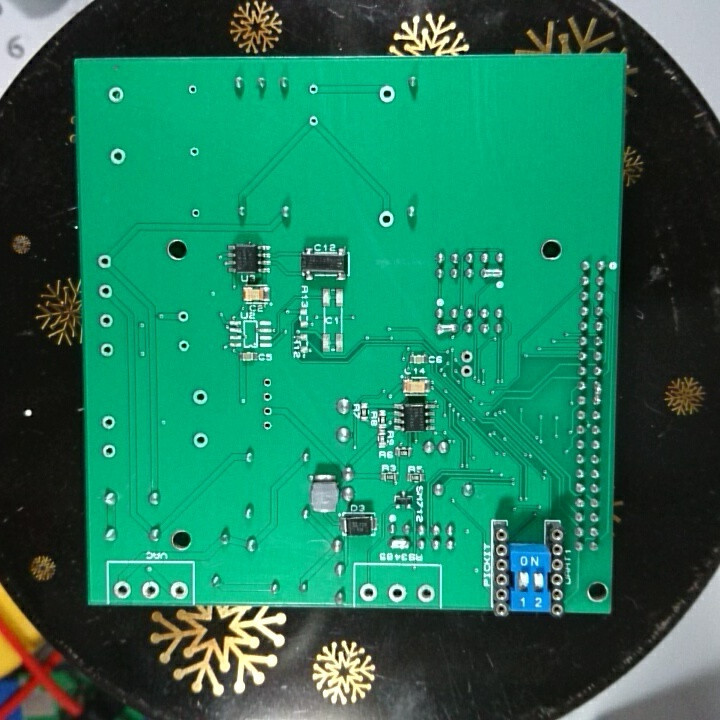F: (168, 577, 192, 602), (106, 83, 128, 107), (138, 578, 162, 600), (385, 582, 410, 603), (414, 582, 437, 604), (377, 83, 398, 106), (108, 146, 131, 167), (377, 207, 397, 228), (190, 429, 210, 450), (112, 578, 133, 598), (99, 412, 118, 434), (358, 581, 378, 601), (97, 339, 116, 360), (191, 387, 210, 408), (96, 250, 114, 272), (96, 283, 115, 301), (97, 312, 115, 330), (458, 346, 477, 363), (101, 441, 118, 460), (188, 205, 206, 222), (458, 363, 476, 380), (175, 337, 192, 354), (175, 307, 191, 324), (259, 373, 275, 388), (307, 81, 322, 96), (186, 81, 200, 97), (188, 145, 202, 160), (260, 391, 274, 406), (308, 111, 320, 127), (262, 418, 275, 431), (262, 404, 275, 416)
P: (477, 264, 507, 281), (590, 379, 606, 407), (434, 320, 460, 337), (388, 535, 413, 552)
